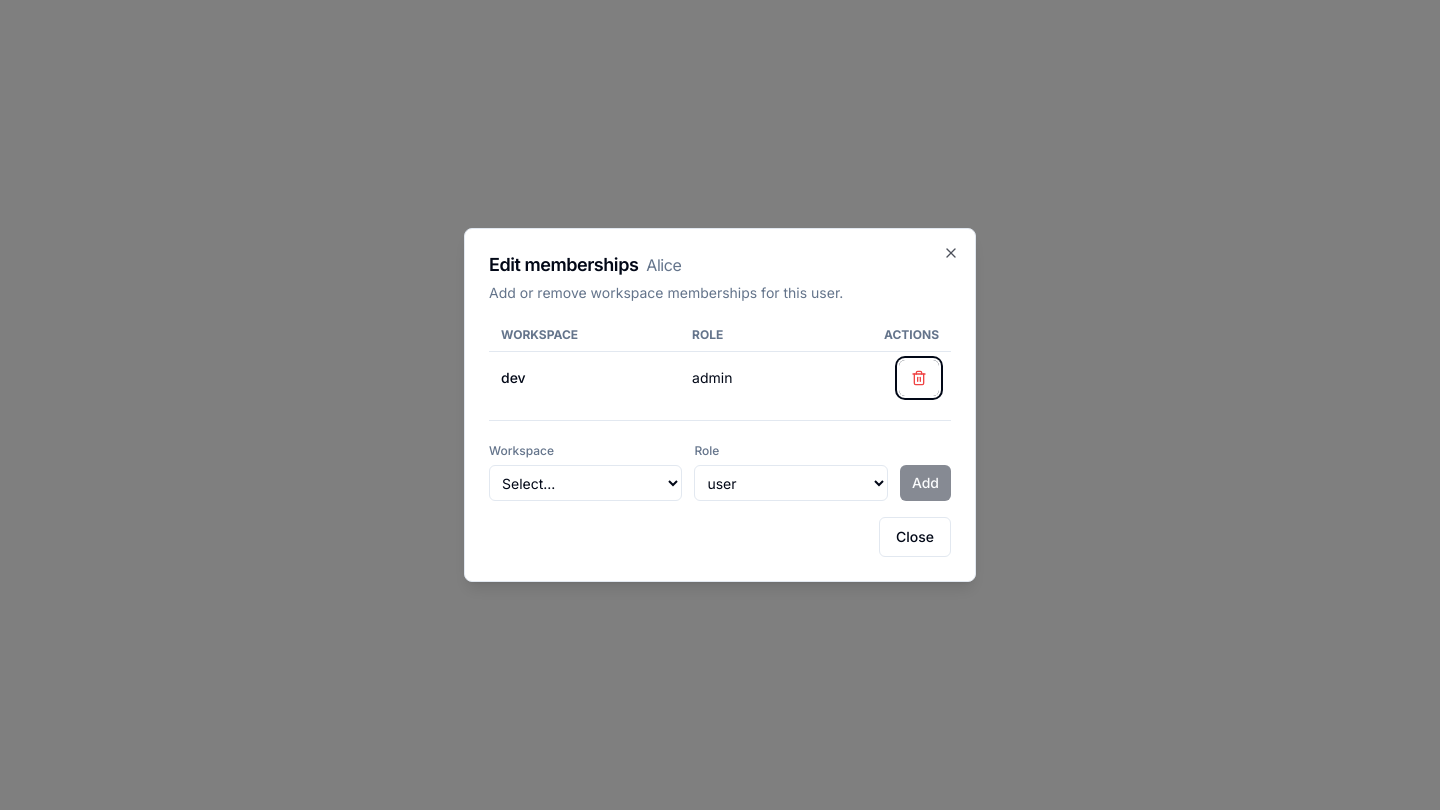
MembershipsDrawer › cancels removal when cancel is clicked
The width and height of the screenshot is (1440, 810).
Click trash — confirm row appears
Click the button with test id "remove-membership-dev". click: (919,378)
box: [899,360,939,396]
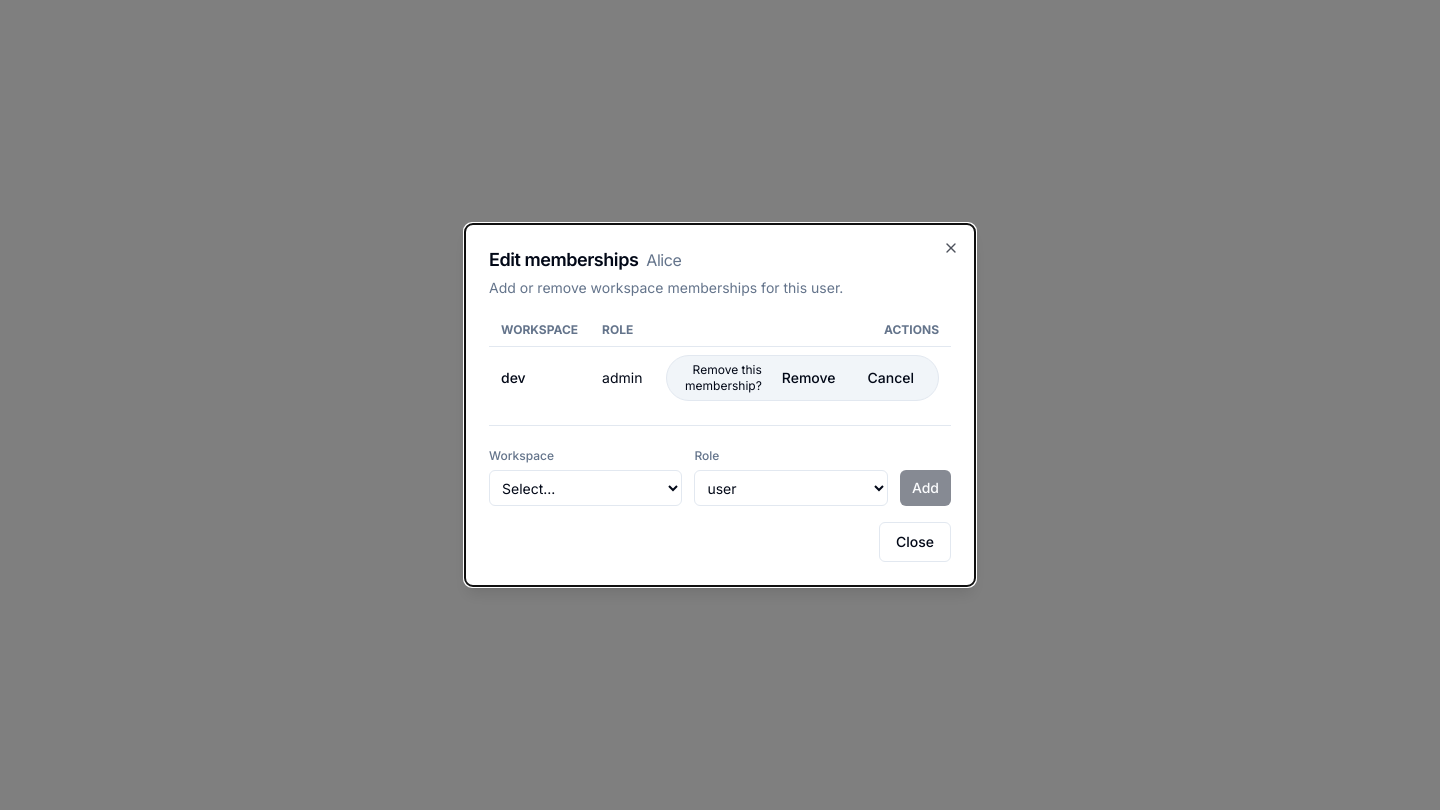
Check: the element with test id "remove-membership-confirm-dev" is shown, box [666,355,939,401]
Click cancel
Click the button with test id "remove-membership-confirm-cancel-dev". click: (891,378)
box: [856,360,926,396]
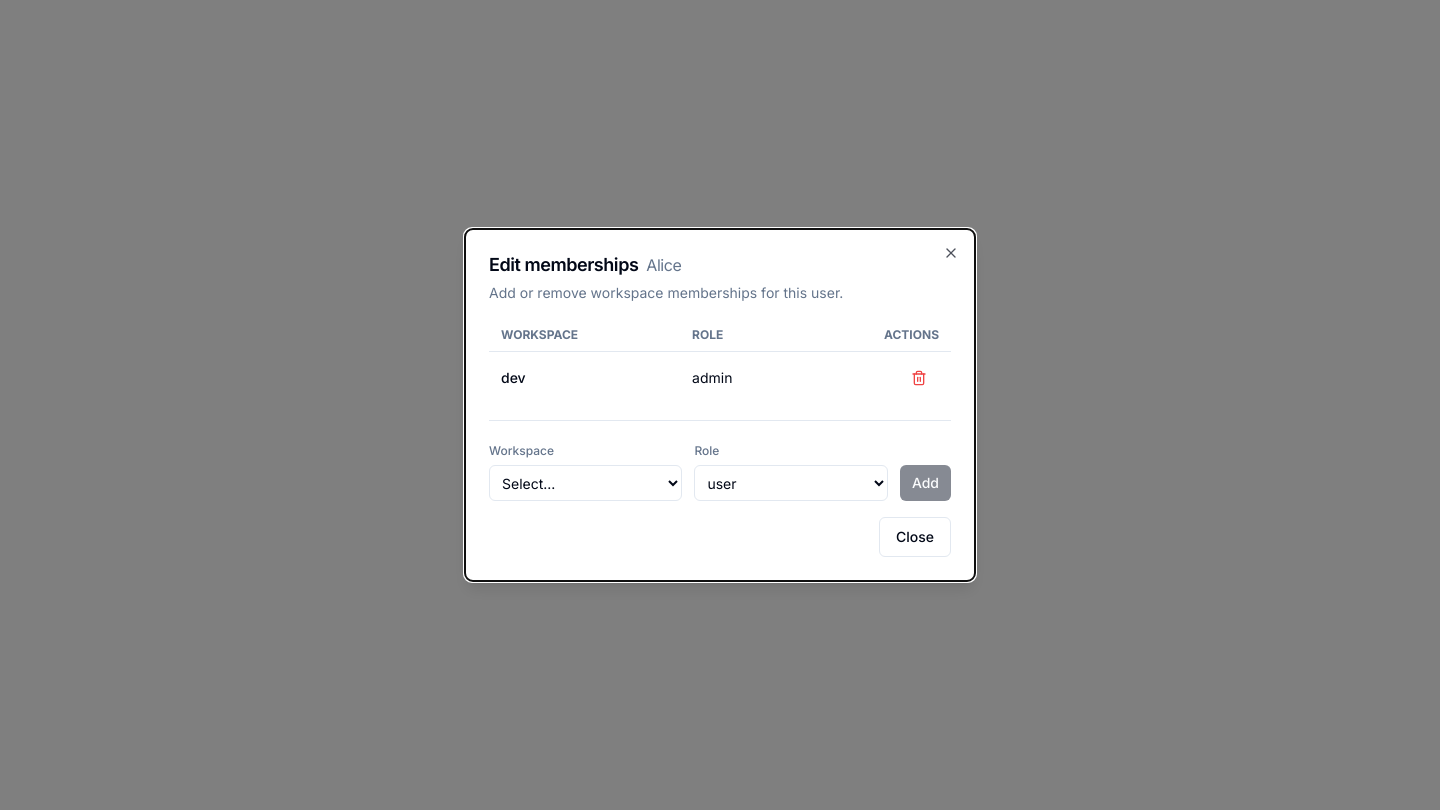
Check: the element with test id "remove-membership-confirm-dev" is gone
